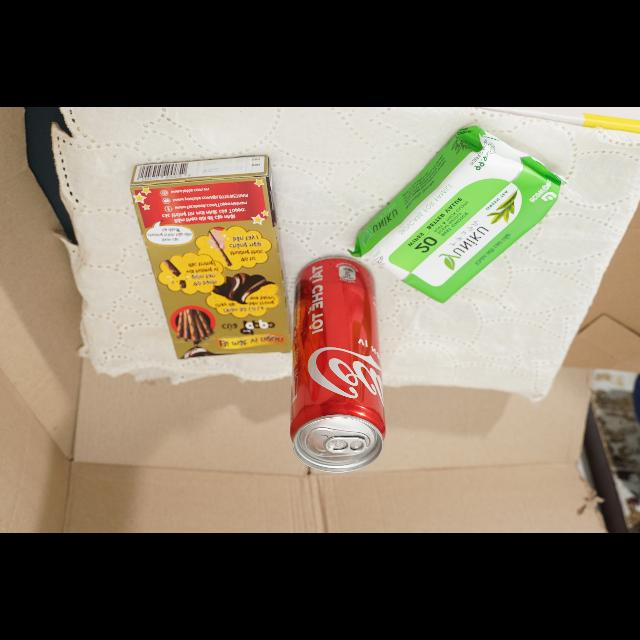banh_toppo_socola: (130, 155, 290, 358)
coca_cola: (290, 257, 385, 472)
khan_giay: (350, 126, 565, 302)
